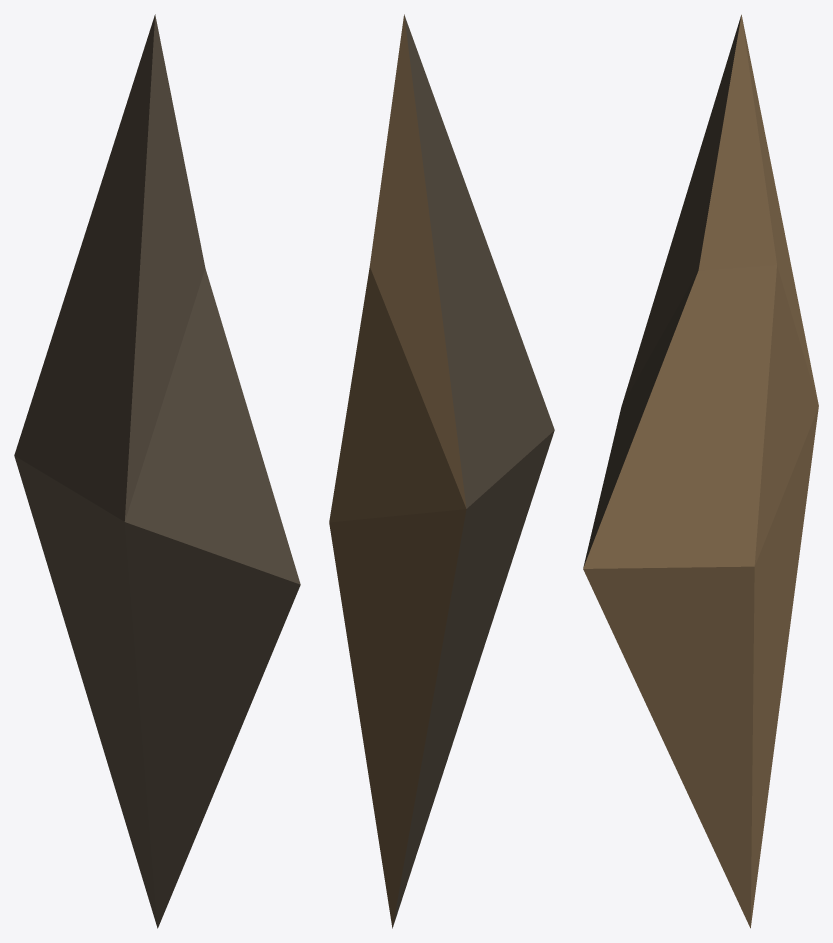
File: woodchip.glb
3 views of the same model, side by side, from view 1: azimuth 30°, elevation 25°; view 2: azimuth 150°, elevation 25°; view 3: azimuth 270°, elevation 25° (orthographic).
Visible parts, largest first — view 1: FX_WoodChip_01; view 2: FX_WoodChip_01; view 3: FX_WoodChip_01.
Boxes of the visible parts, x1,y1,x2,y2 form: FX_WoodChip_01: (14,14,300,928); FX_WoodChip_01: (329,14,554,928); FX_WoodChip_01: (583,14,818,928).
Size of the model in its own units: 0.1943 by 1 by 0.2345.
1 material, 1 textured.
